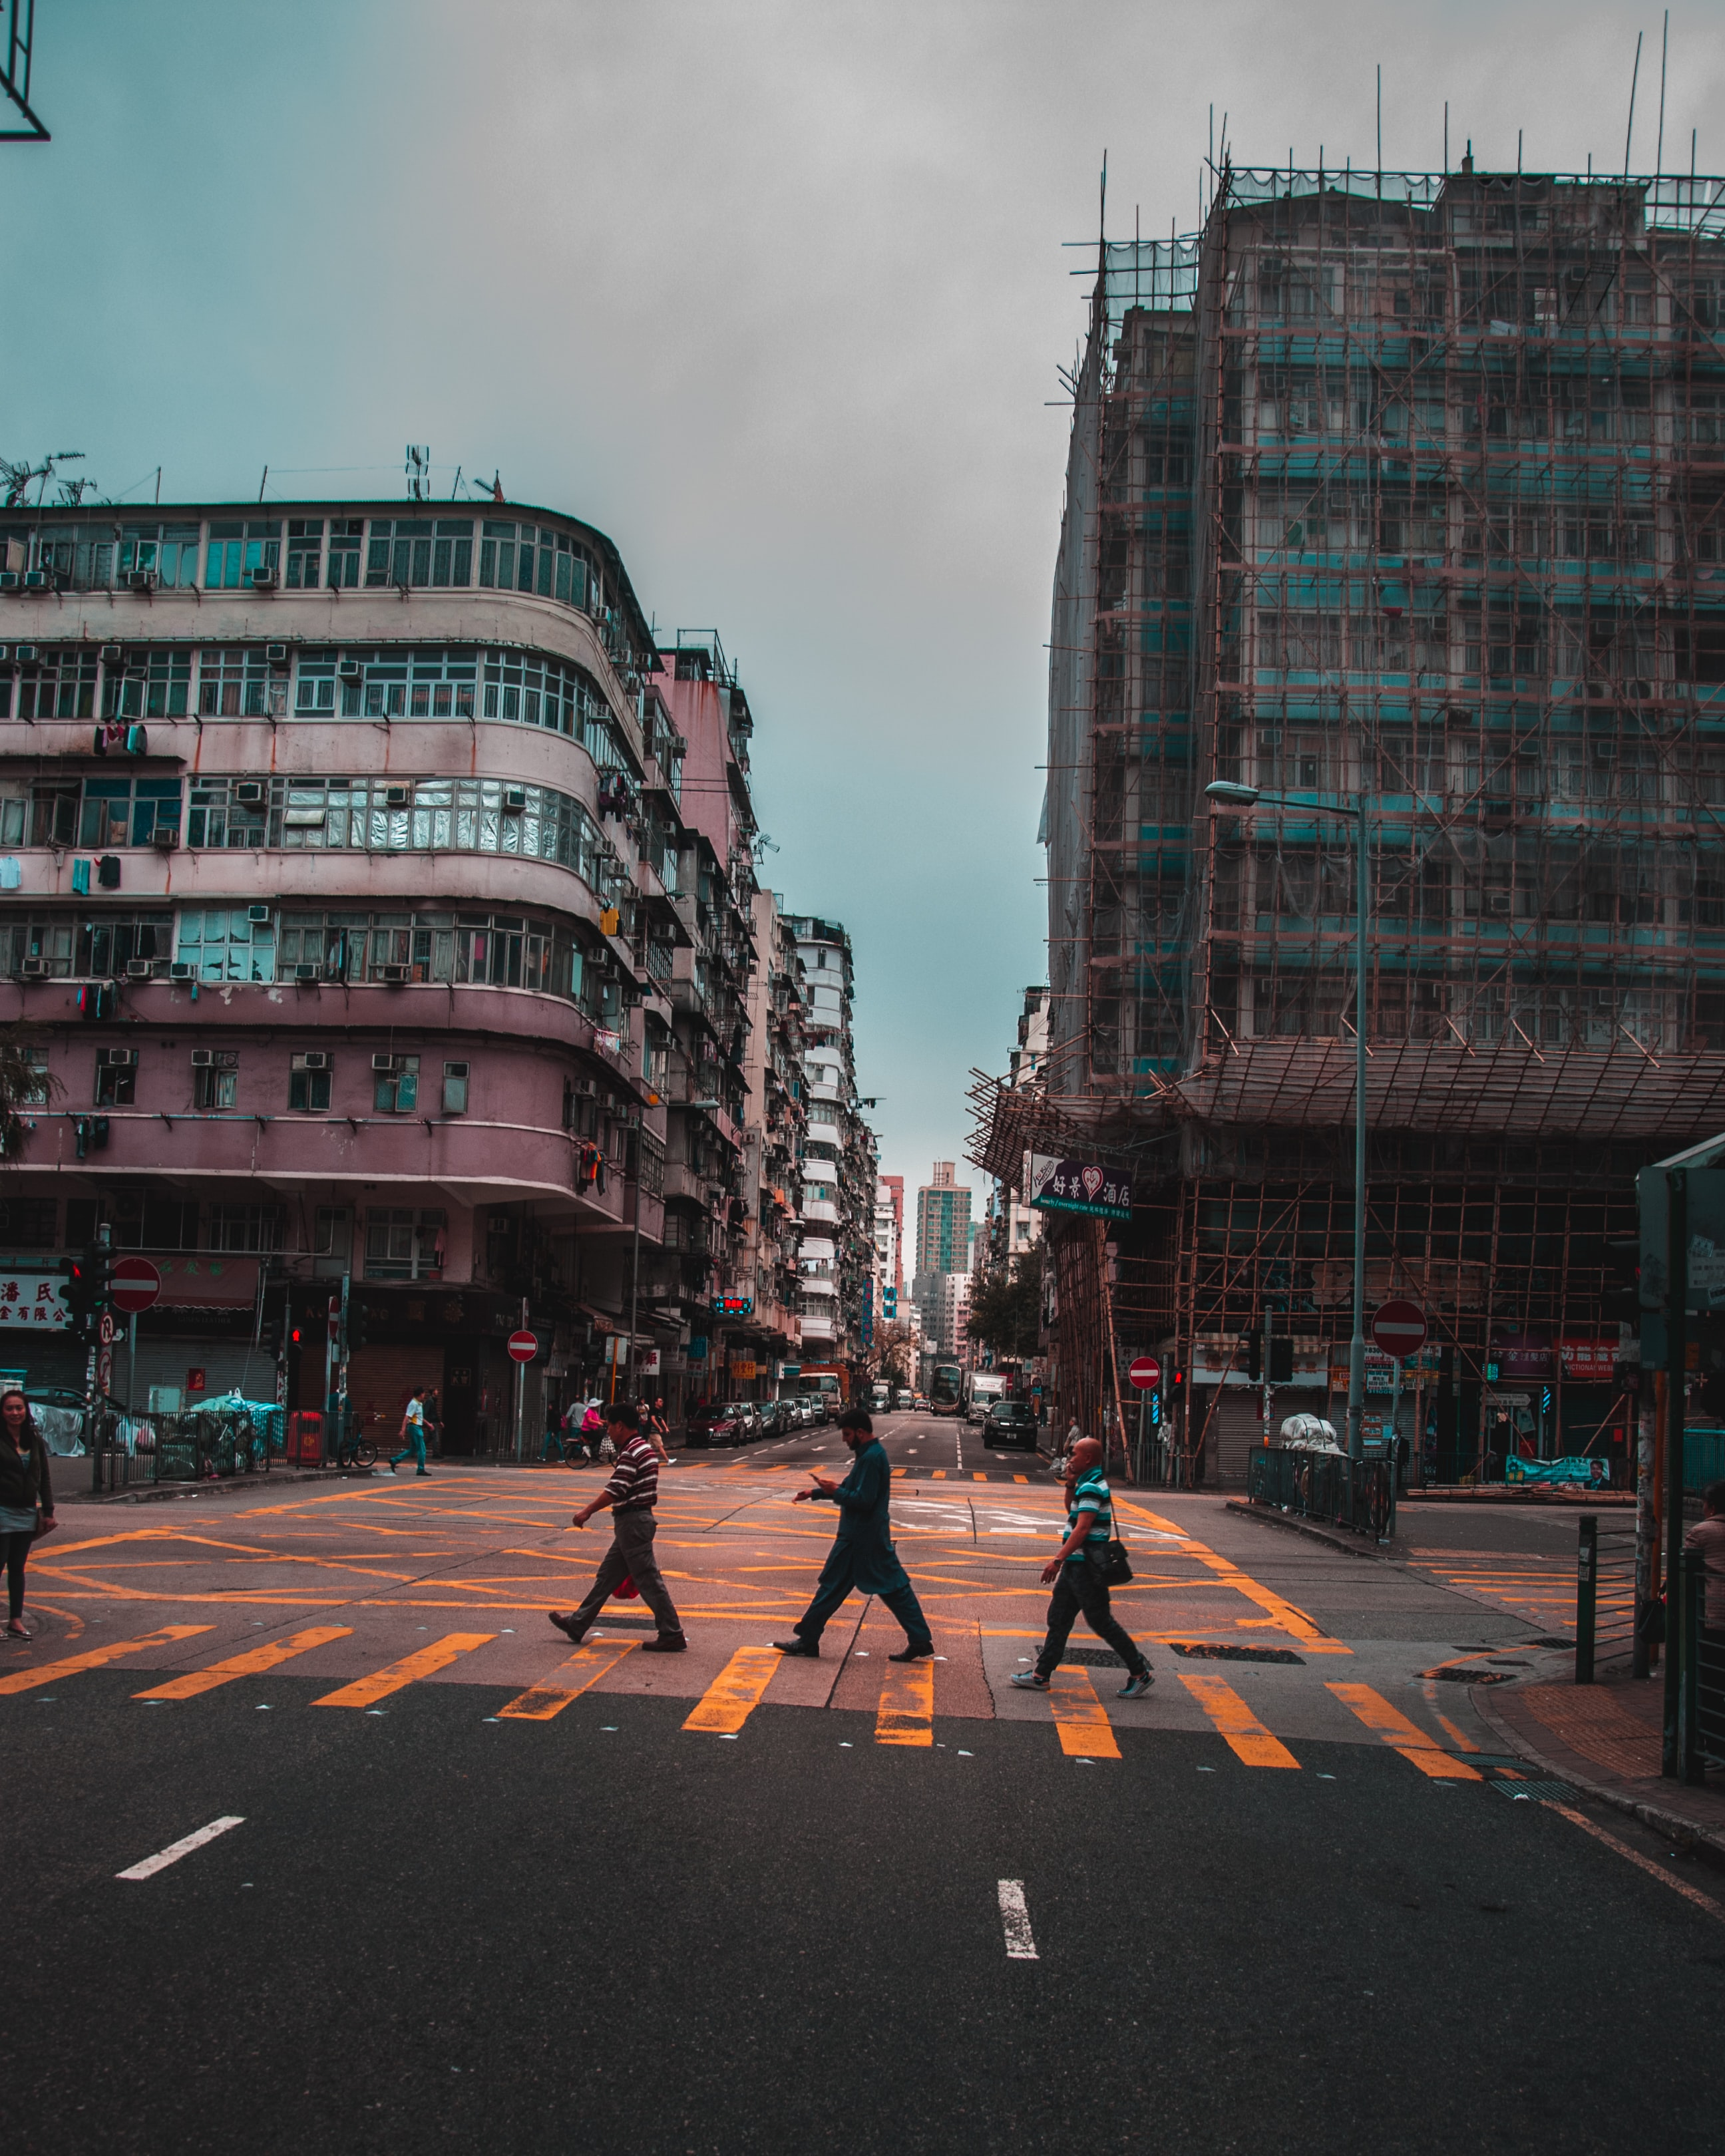person: (797, 1410, 942, 1665), (558, 1399, 691, 1656), (1029, 1429, 1155, 1704), (1, 1381, 49, 1652), (390, 1382, 432, 1484)
